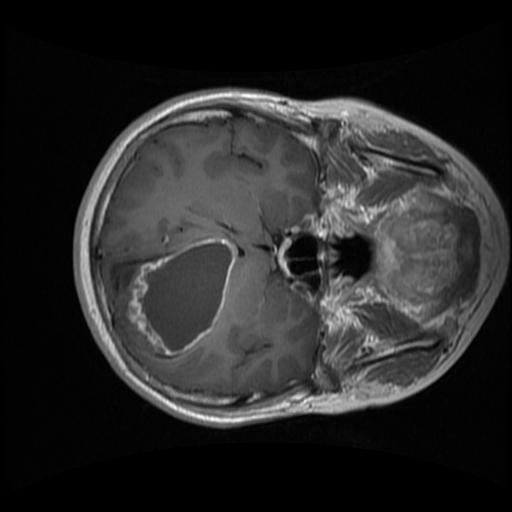glioma: (110, 235, 238, 360)
